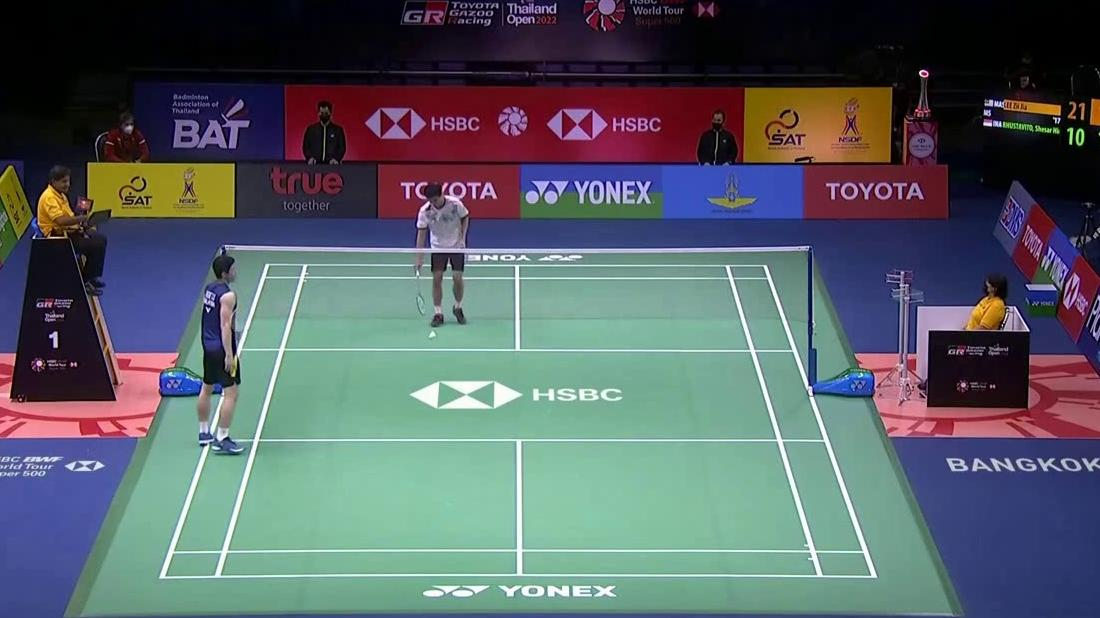racket: (231, 303, 247, 378), (413, 264, 427, 315)
shuttle: (428, 330, 437, 340)
